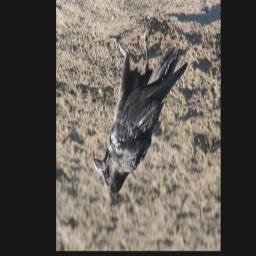Crow: (93, 22, 189, 197)
